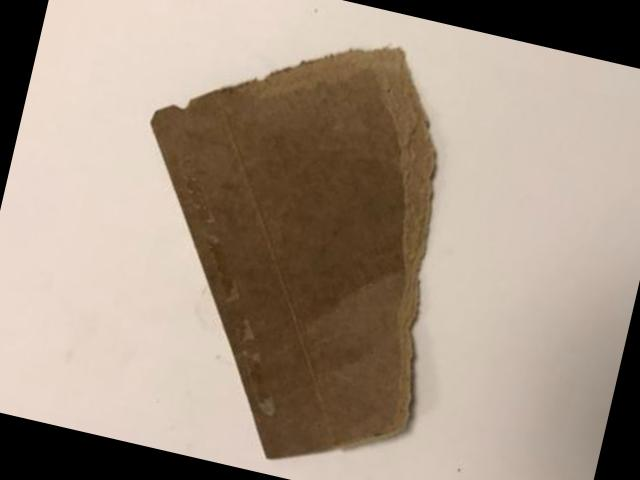cardboard paper: (148, 49, 431, 458)
